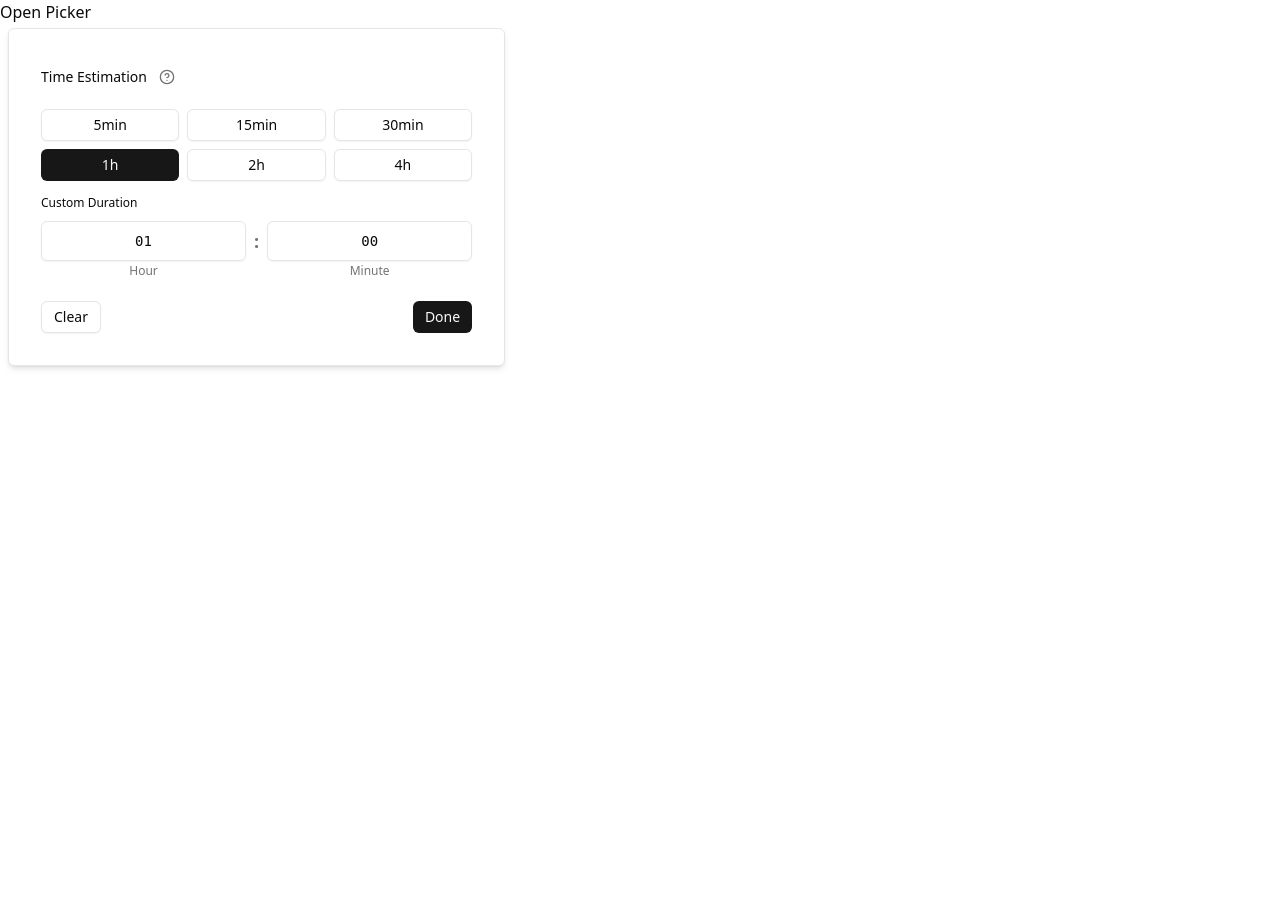
TimeEstimationPicker › validation › shows error for invalid minute input
This screenshot has width=1280, height=900.
Replace the text in the 2nd field showing "00" with "abc" at [370, 241], box [267,221,472,261]
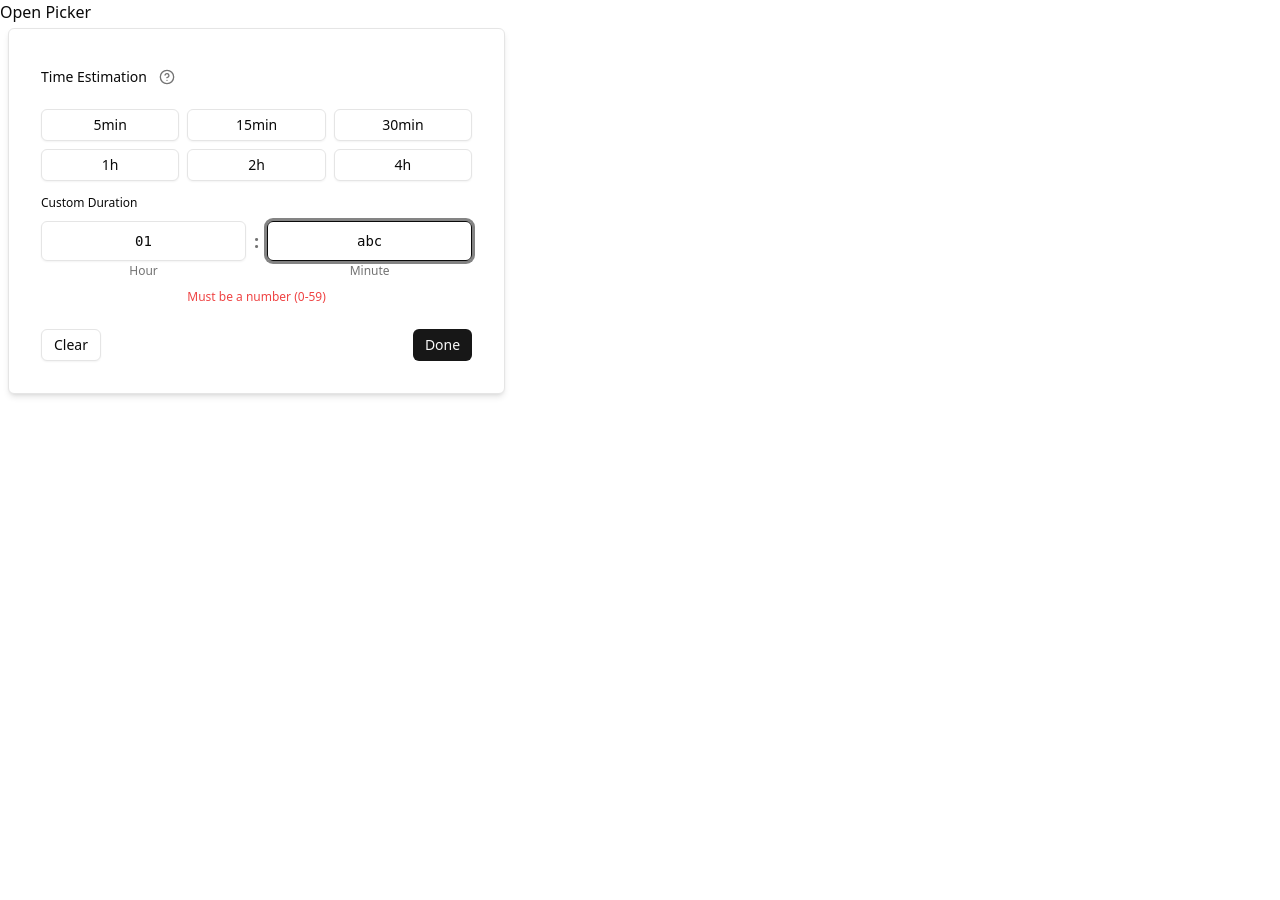
Expected: the text "Must be a number (0-59)" is shown, [187,288,326,305]
